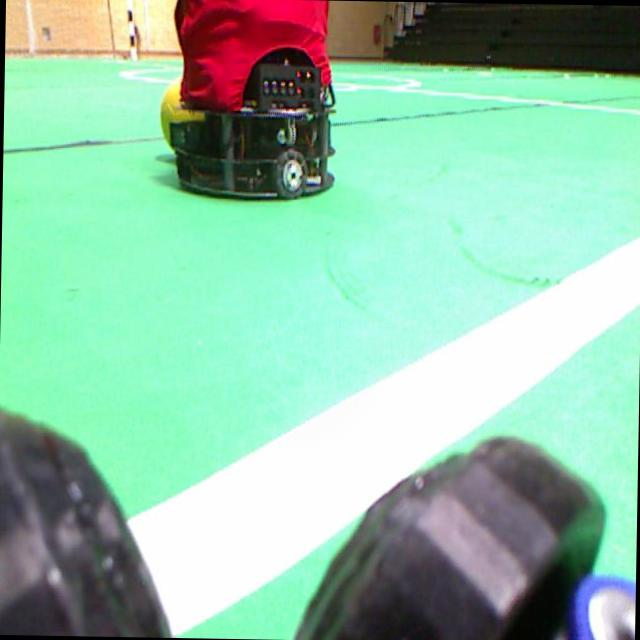ball: (160, 79, 204, 146)
